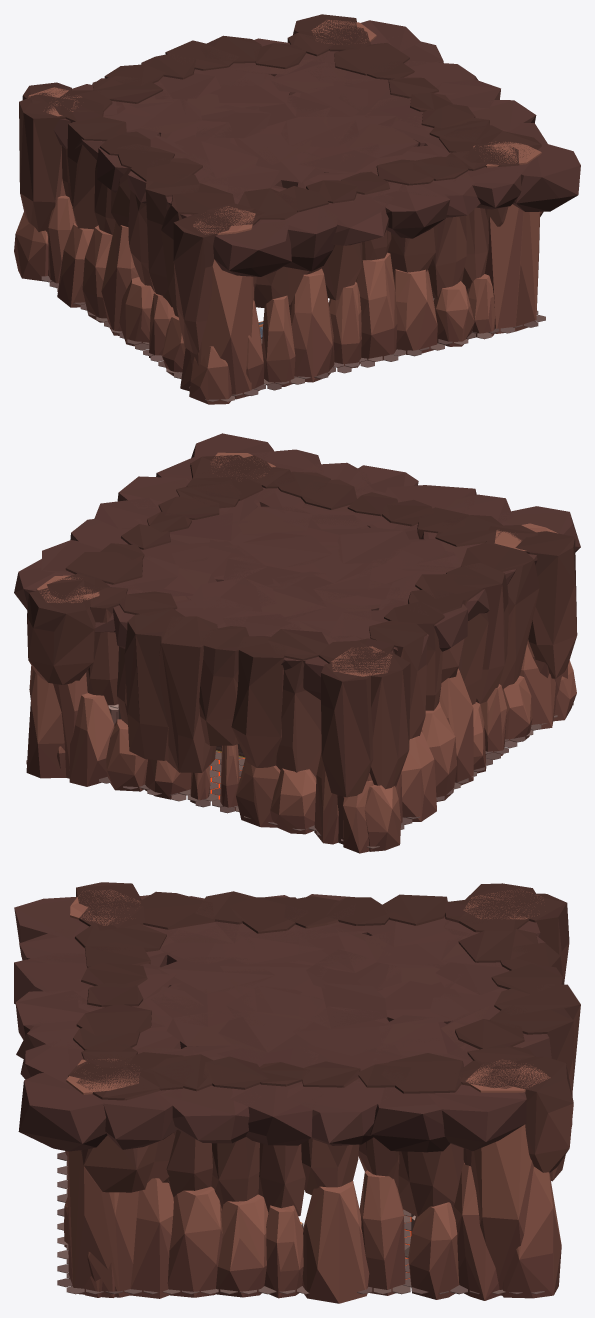
Rendered from volcanic-hall.glb.
3 views of the same model, one above another, from view 1: azimuth 30°, elevation 25°; view 2: azimuth 150°, elevation 25°; view 3: azimuth 270°, elevation 25° (orthographic). The views are drawn at different scales.
Visible parts, largest first — view 1: Batched static valley; view 2: Batched static valley; view 3: Batched static valley.
Boxes of the visible parts, bbox=[...] form: Batched static valley: bbox=[14, 14, 580, 404]; Batched static valley: bbox=[14, 433, 580, 853]; Batched static valley: bbox=[14, 882, 580, 1303].
Bounding box in the file's own units: 53.83 × 21.6 × 53.78.
11 materials, 2 textured.
